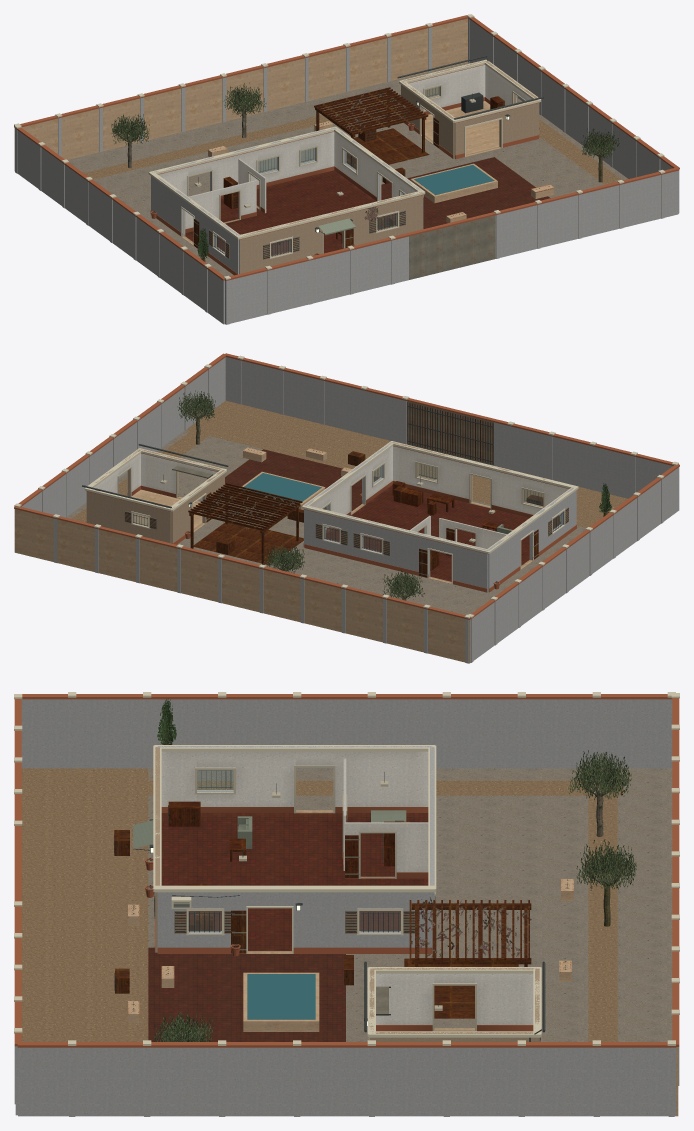
Rendered from sd_casa_atlas_xl_v2.glb.
3 renders of one model, top to bottom at view 1: azimuth 30°, elevation 25°; view 2: azimuth 150°, elevation 25°; view 3: azimuth 270°, elevation 25°, orthographic. The views are drawn at different scales.
Parts seen in each view (by area): view 1: mapa_stucco, mapa_stone, mapa_soil, mapa_interior_stucco, mapa_ochre, mapa_clay, mapa_cream, mapa_wood, mapa_interior_floor, mapa_paint, mapa_cobble, mapa_terracotta (+7 smaller); view 2: mapa_stucco, mapa_stone, mapa_soil, mapa_wood, mapa_cobble, mapa_interior_stucco, mapa_clay, mapa_cream, mapa_interior_floor, mapa_paint, mapa_ochre, mapa_terracotta (+5 smaller); view 3: mapa_stucco, mapa_soil, mapa_cobble, mapa_interior_stucco, mapa_interior_floor, mapa_clay, mapa_cream, mapa_terracotta, mapa_wood, mapa_olive, mapa_stone, mapa_water (+8 smaller).
Boxes of the visible parts, left/top/right/bottom form: mapa_stucco: left=15, top=18, right=679, bottom=324; mapa_stone: left=14, top=18, right=554, bottom=245; mapa_soil: left=68, top=62, right=628, bottom=276; mapa_interior_stucco: left=158, top=65, right=531, bottom=229; mapa_ochre: left=239, top=61, right=539, bottom=273; mapa_clay: left=14, top=14, right=679, bottom=280; mapa_cream: left=14, top=14, right=665, bottom=279; mapa_wood: left=194, top=87, right=438, bottom=258; mapa_interior_floor: left=185, top=170, right=395, bottom=255; mapa_paint: left=194, top=120, right=495, bottom=279; mapa_cobble: left=84, top=86, right=622, bottom=184; mapa_terracotta: left=381, top=157, right=550, bottom=228; mapa_stucco: left=21, top=357, right=679, bottom=663; mapa_stone: left=14, top=447, right=532, bottom=663; mapa_soil: left=66, top=430, right=586, bottom=615; mapa_wood: left=125, top=402, right=568, bottom=577; mapa_cobble: left=71, top=400, right=627, bottom=527; mapa_interior_stucco: left=94, top=446, right=568, bottom=548; mapa_clay: left=14, top=353, right=679, bottom=619; mapa_cream: left=14, top=355, right=678, bottom=618; mapa_interior_floor: left=325, top=485, right=529, bottom=581; mapa_paint: left=124, top=401, right=568, bottom=575; mapa_ochre: left=86, top=442, right=551, bottom=543; mapa_terracotta: left=225, top=449, right=379, bottom=516; mapa_stucco: left=14, top=699, right=679, bottom=1116; mapa_soil: left=148, top=768, right=672, bottom=1041; mapa_cobble: left=21, top=768, right=623, bottom=1041; mapa_interior_stucco: left=161, top=751, right=533, bottom=1024; mapa_interior_floor: left=161, top=813, right=428, bottom=950; mapa_clay: left=14, top=694, right=679, bottom=1047; mapa_cream: left=14, top=692, right=679, bottom=1045; mapa_terracotta: left=148, top=947, right=345, bottom=1041; mapa_wood: left=114, top=830, right=540, bottom=1039; mapa_olive: left=154, top=750, right=636, bottom=1041; mapa_stone: left=128, top=810, right=678, bottom=1116; mapa_water: left=247, top=974, right=315, bottom=1019.
Bounding box in the file's own units: 40 × 4.66 × 32.
22 materials, 22 textured.
